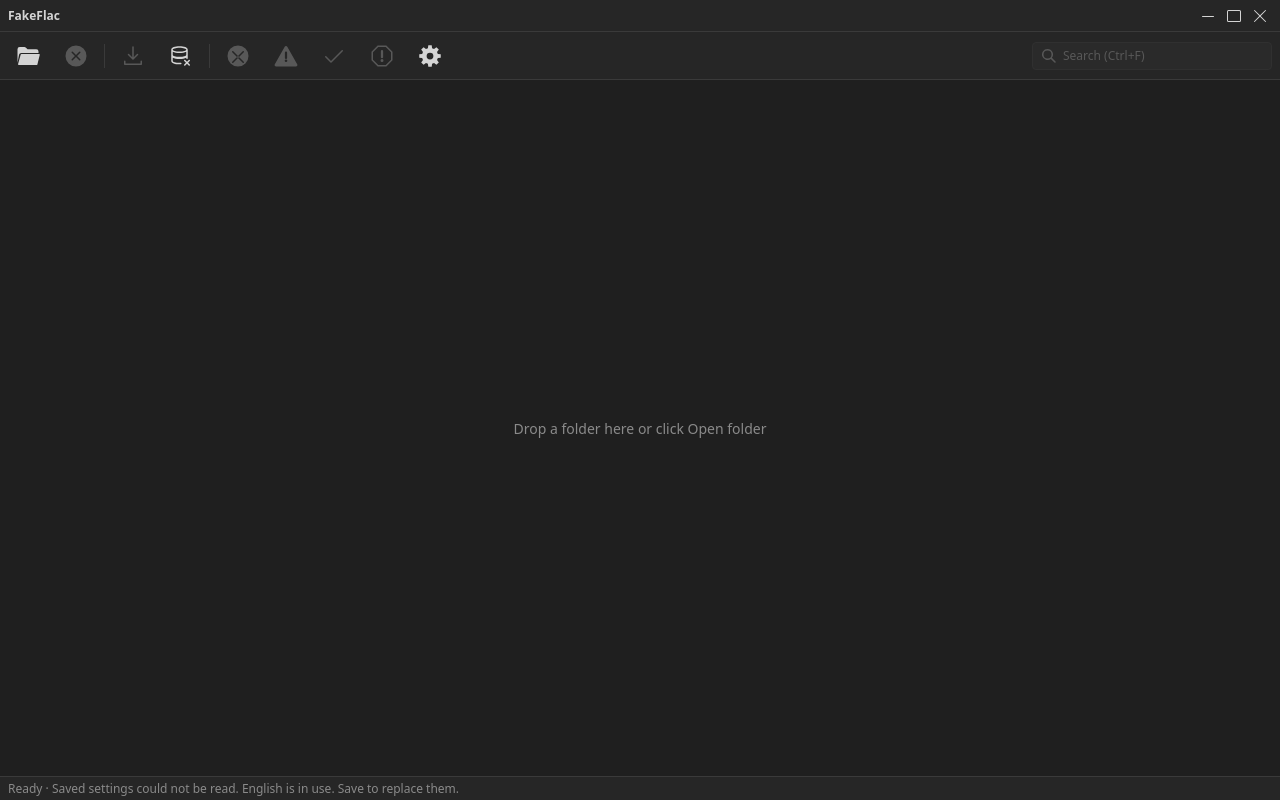
Scenario: Scenario Outline: Invalid persisted settings fall back without modifying the file (@RF-13 @RNF-04) › English with the warning; Settings explains it; an explicit Save of Spanish clears it
Check: the element named "Main toolbar" is shown, box [0,32,1279,80]
Check: the button named "Open folder" is enabled, box [8,36,48,76]
Click the button named "Settings": [430, 56] box [410,36,450,76]
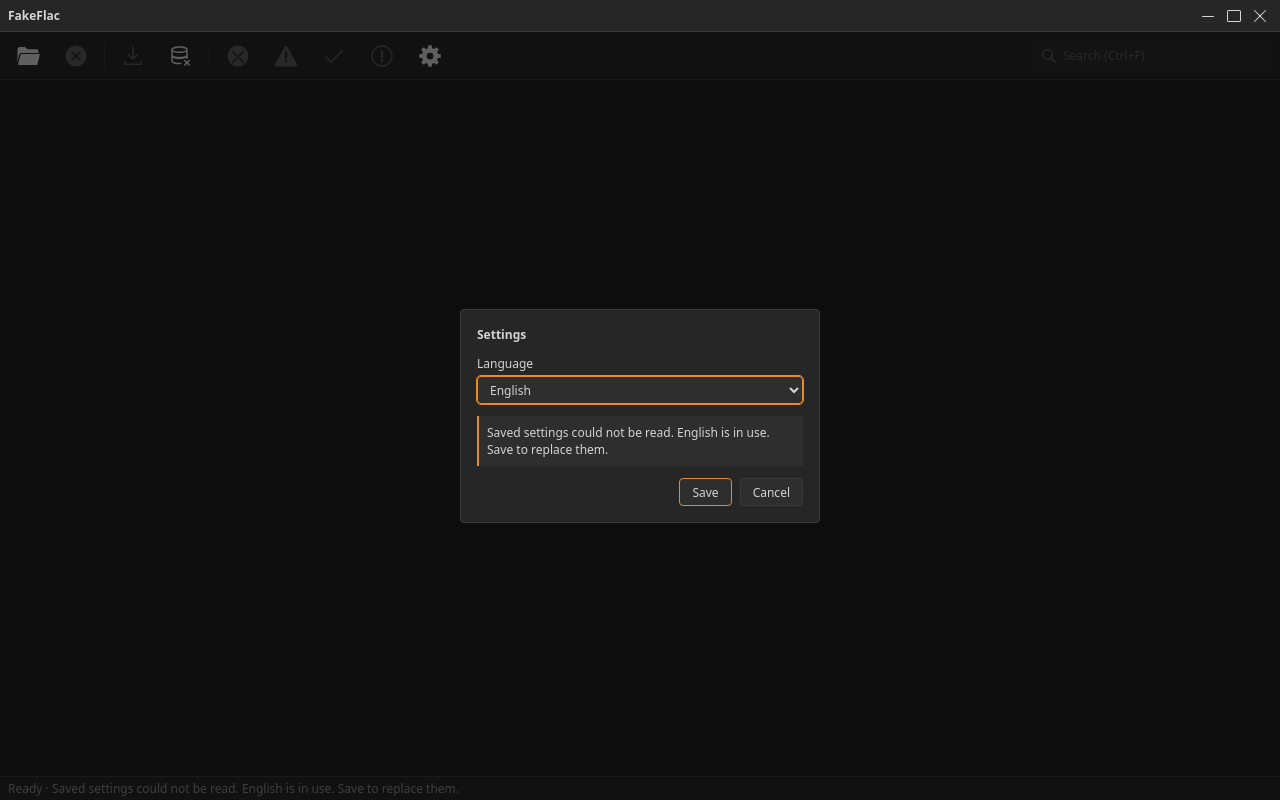
Check: the dialog is shown, box [460,309,820,523]
Check: the dialog shows "Saved settings could not be read. English is in use. Save to replace them.", box [487,424,770,458]
Check: the dropdown is enabled
Select "Español" in the dropdown: [640, 390] box [477,376,803,404]
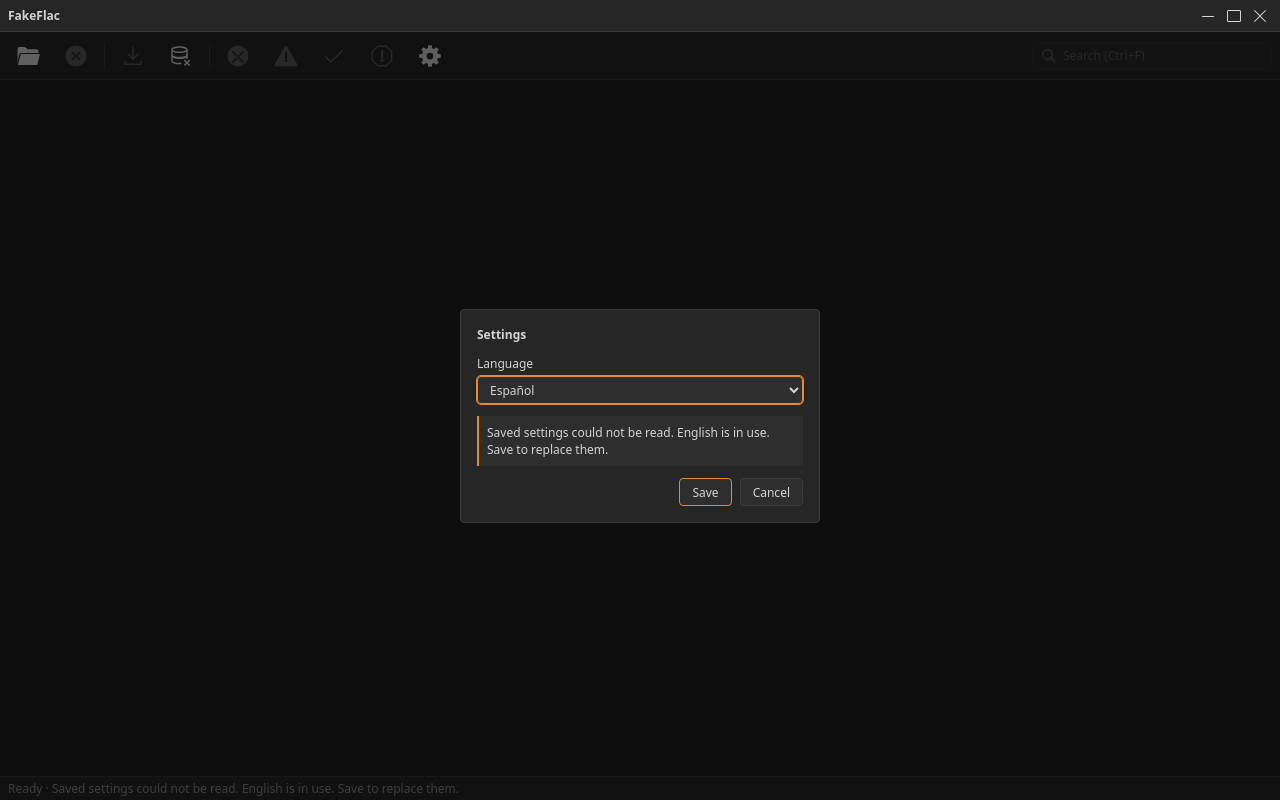
Click the button "Save": [706, 492] box [680,478,732,506]
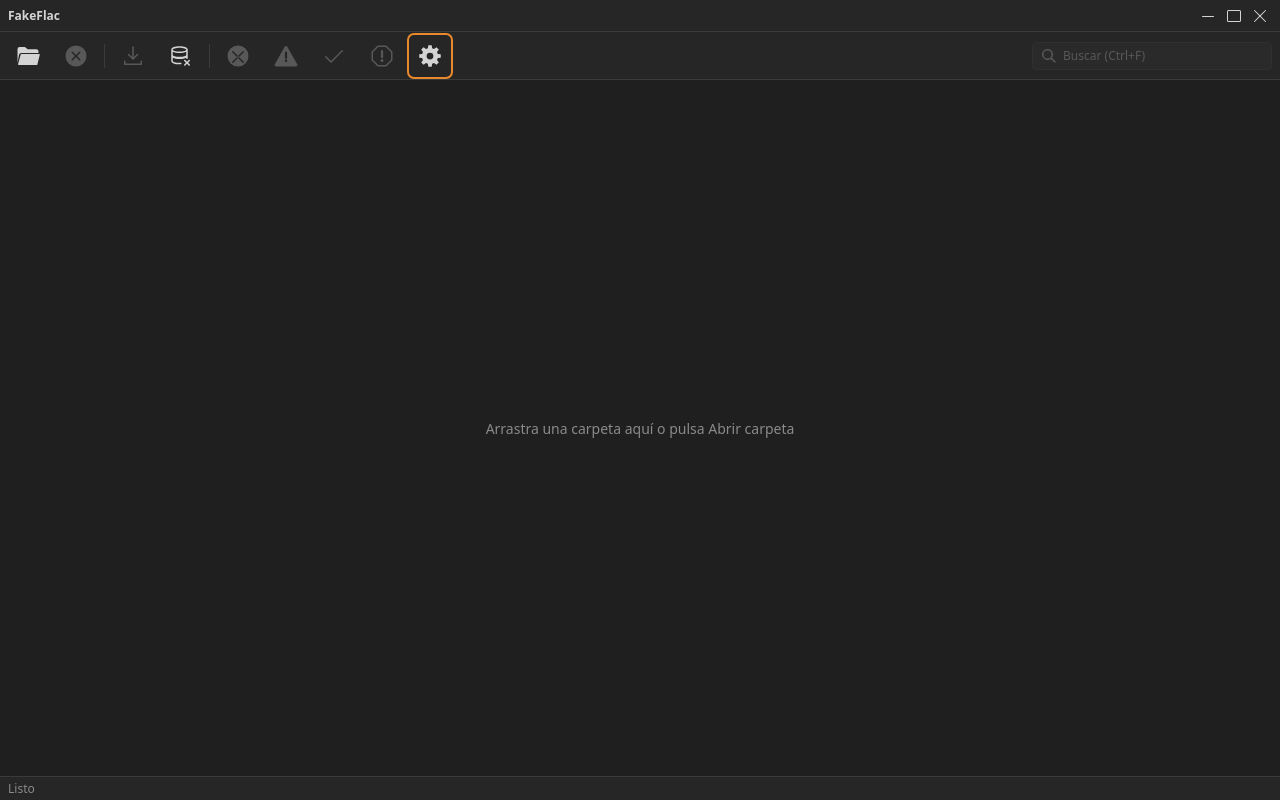
Check: the dialog is gone
Check: the text "Listo" is shown, box [8,780,35,797]
